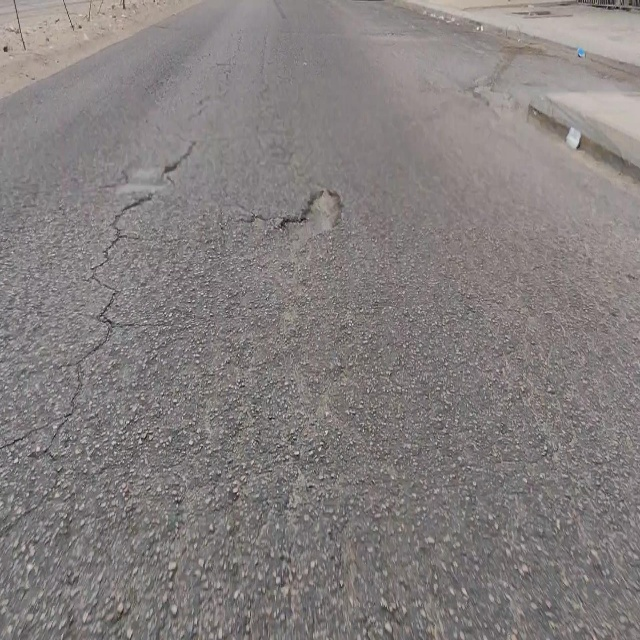pothole: (276, 187, 348, 248)
